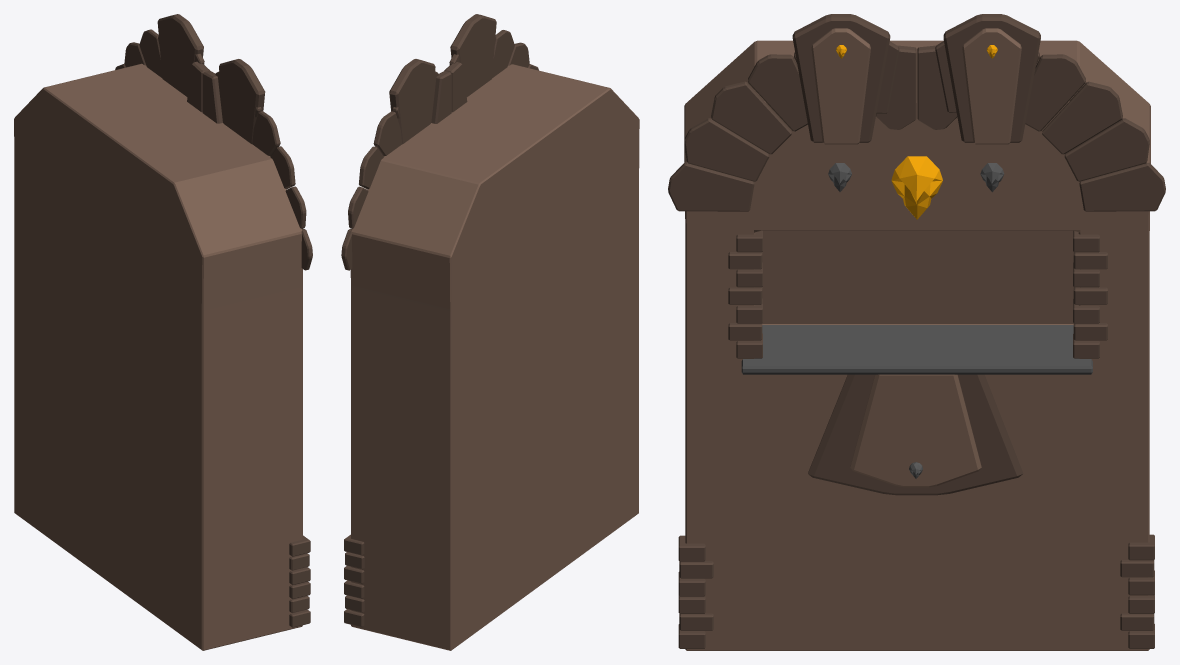
Rendered from Spawner_normalsgeflipped.fbx.
3 renders of one model, left to right at view 1: azimuth 30°, elevation 25°; view 2: azimuth 150°, elevation 25°; view 3: azimuth 270°, elevation 25°, orthographic. The views are drawn at different scales.
Visible parts, largest first — view 1: Spawner; view 2: Spawner; view 3: Spawner.
Boxes of the visible parts, x1,y1,x2,y2 form: Spawner: [14, 14, 312, 650]; Spawner: [341, 14, 639, 650]; Spawner: [668, 14, 1165, 650].
Bounding box in the file's own units: 45.98 × 197 × 139.
